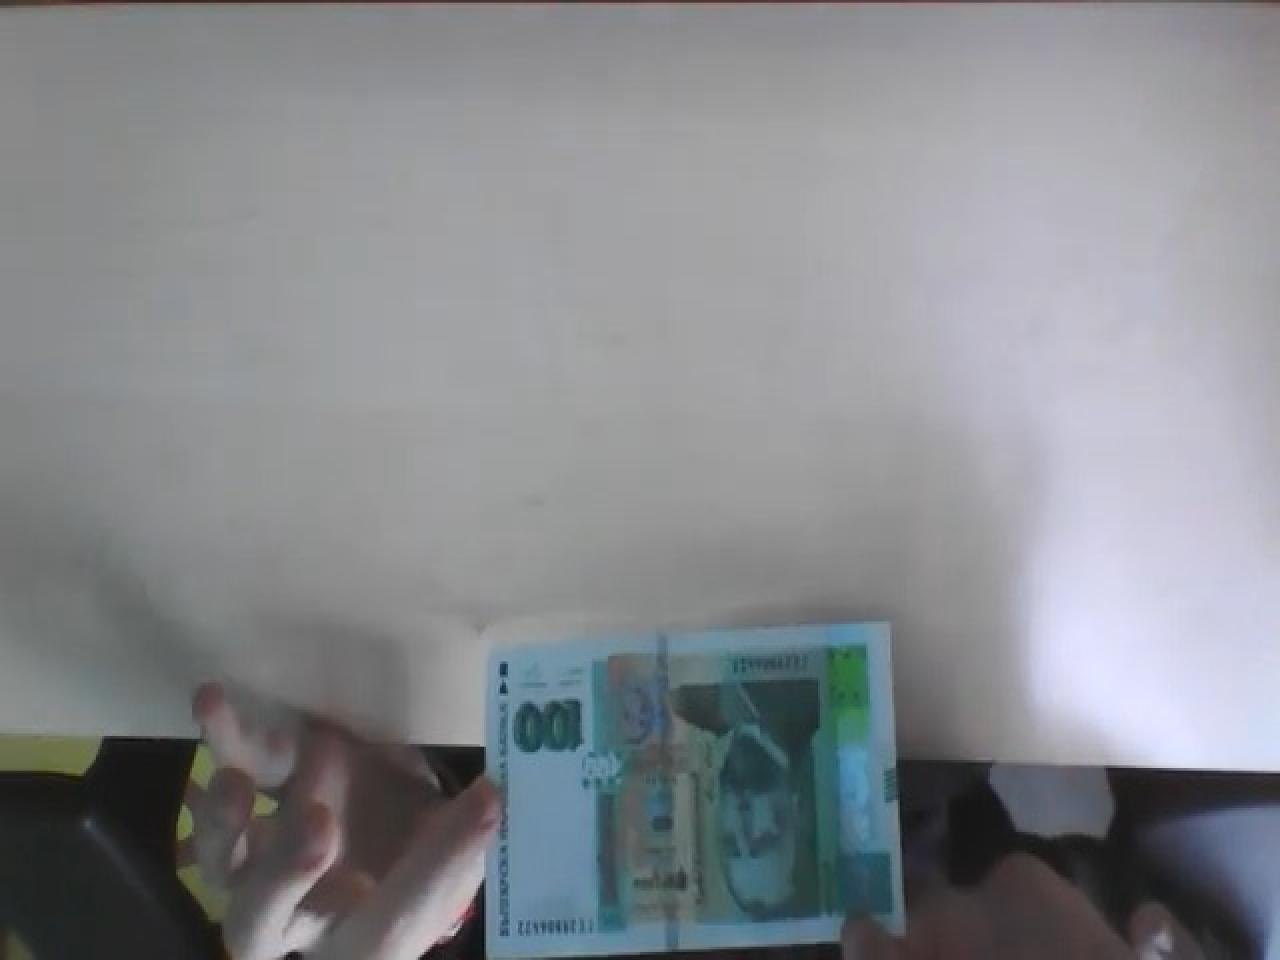100leva: (482, 619, 908, 960), (668, 673, 826, 923), (512, 699, 586, 757)
